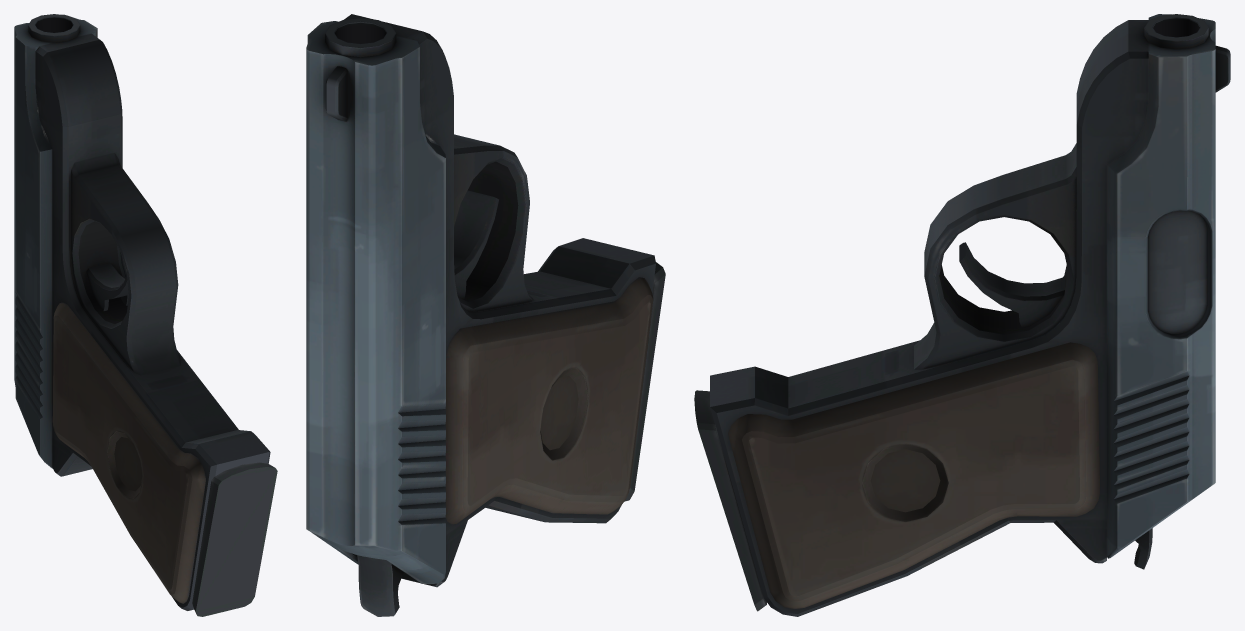
The model's file is c_pistol.glb.
3 views of the same model, side by side, from view 1: azimuth 30°, elevation 25°; view 2: azimuth 150°, elevation 25°; view 3: azimuth 270°, elevation 25° (orthographic). The views are drawn at different scales.
Parts seen in each view (by area): view 1: c_pistol_reference; view 2: c_pistol_reference; view 3: c_pistol_reference.
Part boxes in pixels (box(x1,y1,x2,y2)): c_pistol_reference: box(14, 14, 277, 616); c_pistol_reference: box(306, 14, 665, 616); c_pistol_reference: box(694, 14, 1230, 616).
Bounding box in the file's own units: 2.18 × 12.38 × 10.49.
Materials: 1 (1 with a texture image).
